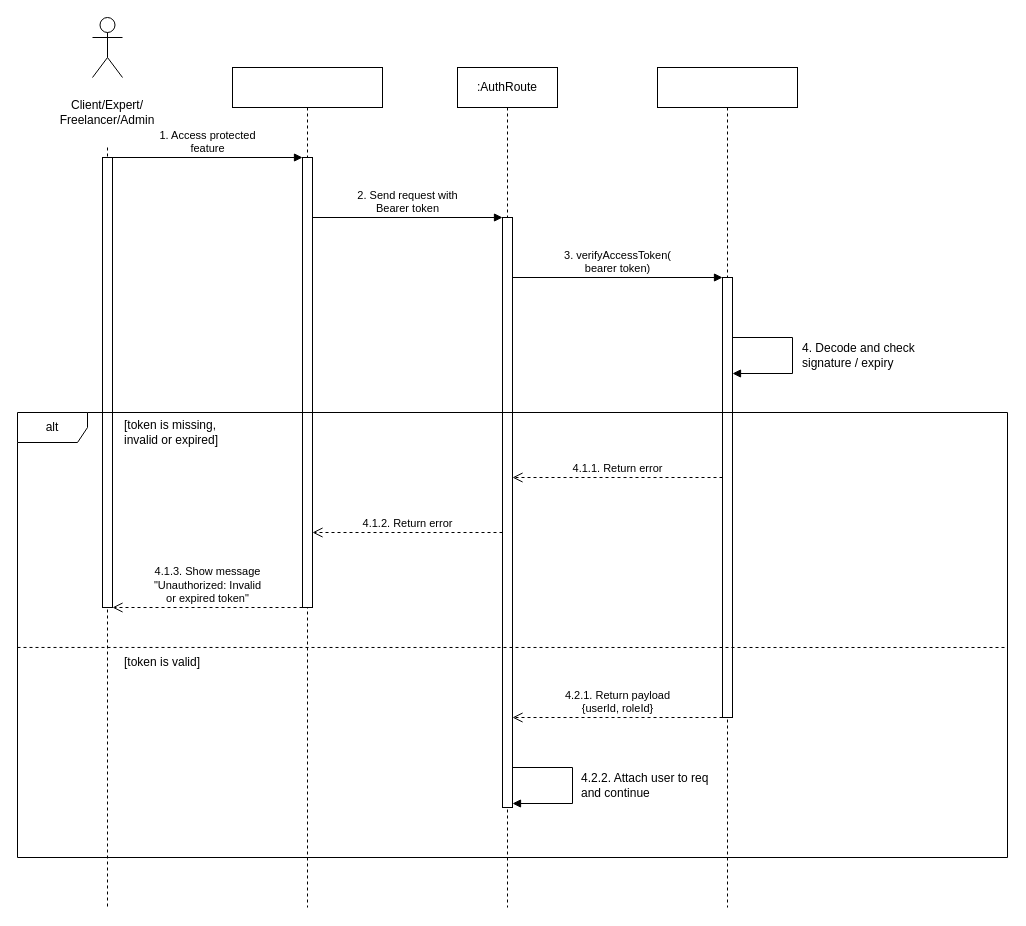
Image size: 1026x926. Some labels were removed from this diagram. Here are the shapes that lost their labels. From the top down, the box of each, then its label:
(232, 66, 382, 908): :AuthView
(656, 66, 798, 908): :JwtService
